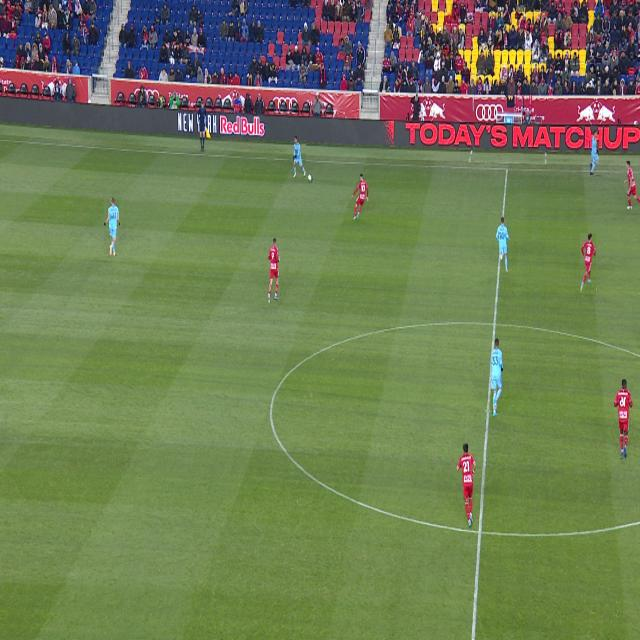football: (308, 174, 312, 181)
player: (456, 443, 476, 527), (614, 380, 633, 458), (491, 339, 503, 417), (581, 234, 596, 293), (351, 174, 369, 220), (105, 197, 119, 256), (624, 160, 640, 210), (268, 238, 280, 304), (496, 217, 509, 273), (293, 137, 306, 178), (590, 130, 599, 175)
